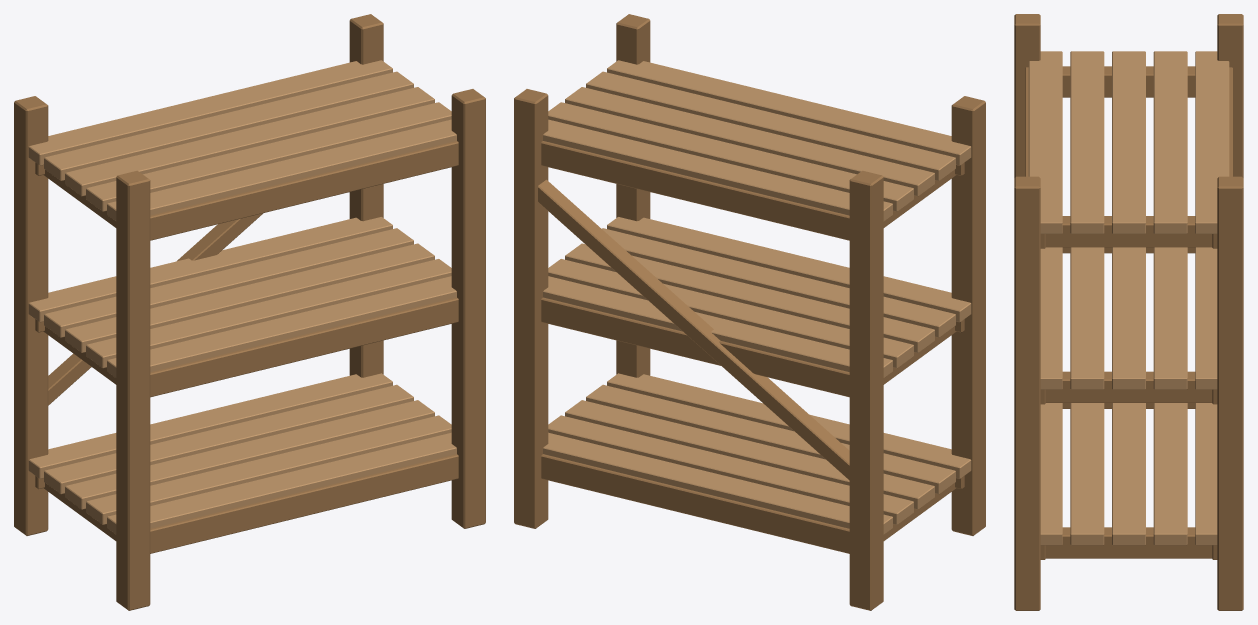
3 renders of one model, left to right at view 1: azimuth 30°, elevation 25°; view 2: azimuth 150°, elevation 25°; view 3: azimuth 270°, elevation 25°, orthographic.
Visible parts, largest first — view 1: Rack leg -0.370 -0.195, Rack leg 0.370 -0.195, Rack leg -0.370 0.195, Shelf rail 0.15 -0.18, Shelf rail 0.81 -0.18, Shelf rail 0.48 -0.18, Cooling slat 0.81 3, Cooling slat 0.81 2, Cooling slat 0.81 4, Cooling slat 0.81 0, Cooling slat 0.15 0, Cooling slat 0.48 0 (+11 smaller); view 2: Rack leg -0.370 0.195, Rack leg 0.370 0.195, Rack leg -0.370 -0.195, Rear diagonal, Shelf rail 0.15 0.18, Shelf rail 0.81 0.18, Cooling slat 0.81 1, Cooling slat 0.81 2, Cooling slat 0.81 0, Cooling slat 0.81 4, Cooling slat 0.15 4, Shelf rail 0.48 0.18 (+11 smaller); view 3: Rack leg 0.370 -0.195, Rack leg 0.370 0.195, Cooling slat 0.81 1, Cooling slat 0.81 3, Cooling slat 0.81 2, Cooling slat 0.81 0, Cooling slat 0.81 4, Cooling slat 0.15 1, Cooling slat 0.15 3, Cooling slat 0.48 1, Cooling slat 0.48 3, Cooling slat 0.48 2 (+13 smaller).
Boxes of the visible parts, box(x1,y1,x2,y2) form: Rack leg -0.370 -0.195: box(116, 170, 150, 610); Rack leg 0.370 -0.195: box(451, 89, 485, 528); Rack leg -0.370 0.195: box(14, 96, 48, 535); Shelf rail 0.15 -0.18: box(150, 454, 458, 553); Shelf rail 0.81 -0.18: box(150, 141, 458, 240); Shelf rail 0.48 -0.18: box(150, 297, 458, 397); Cooling slat 0.81 3: box(44, 71, 413, 180); Cooling slat 0.81 2: box(65, 87, 434, 196); Cooling slat 0.81 4: box(28, 60, 392, 165); Cooling slat 0.81 0: box(107, 119, 456, 221); Cooling slat 0.15 0: box(107, 432, 456, 534); Cooling slat 0.48 0: box(107, 276, 456, 377); Rack leg -0.370 0.195: box(849, 170, 883, 610); Rack leg 0.370 0.195: box(514, 89, 548, 528); Rack leg -0.370 -0.195: box(951, 96, 985, 535); Rear diagonal: box(538, 179, 849, 480); Shelf rail 0.15 0.18: box(541, 454, 849, 553); Shelf rail 0.81 0.18: box(541, 141, 849, 240); Cooling slat 0.81 1: box(586, 71, 955, 180); Cooling slat 0.81 2: box(565, 87, 934, 196); Cooling slat 0.81 0: box(607, 60, 971, 165); Cooling slat 0.81 4: box(543, 119, 892, 221); Cooling slat 0.15 4: box(543, 432, 892, 534); Shelf rail 0.48 0.18: box(541, 297, 849, 397); Rack leg 0.370 -0.195: box(1014, 176, 1040, 610); Rack leg 0.370 0.195: box(1217, 176, 1243, 610); Cooling slat 0.81 1: box(1070, 51, 1104, 233); Cooling slat 0.81 3: box(1153, 51, 1187, 233); Cooling slat 0.81 2: box(1112, 51, 1145, 233); Cooling slat 0.81 0: box(1028, 51, 1062, 233); Cooling slat 0.81 4: box(1195, 51, 1229, 233); Cooling slat 0.15 1: box(1070, 403, 1104, 545); Cooling slat 0.15 3: box(1153, 403, 1187, 545); Cooling slat 0.48 1: box(1070, 247, 1104, 389); Cooling slat 0.48 3: box(1153, 247, 1187, 389); Cooling slat 0.48 2: box(1112, 247, 1145, 389).
Size of the model in its own units: 0.79 by 0.9 by 0.44.
